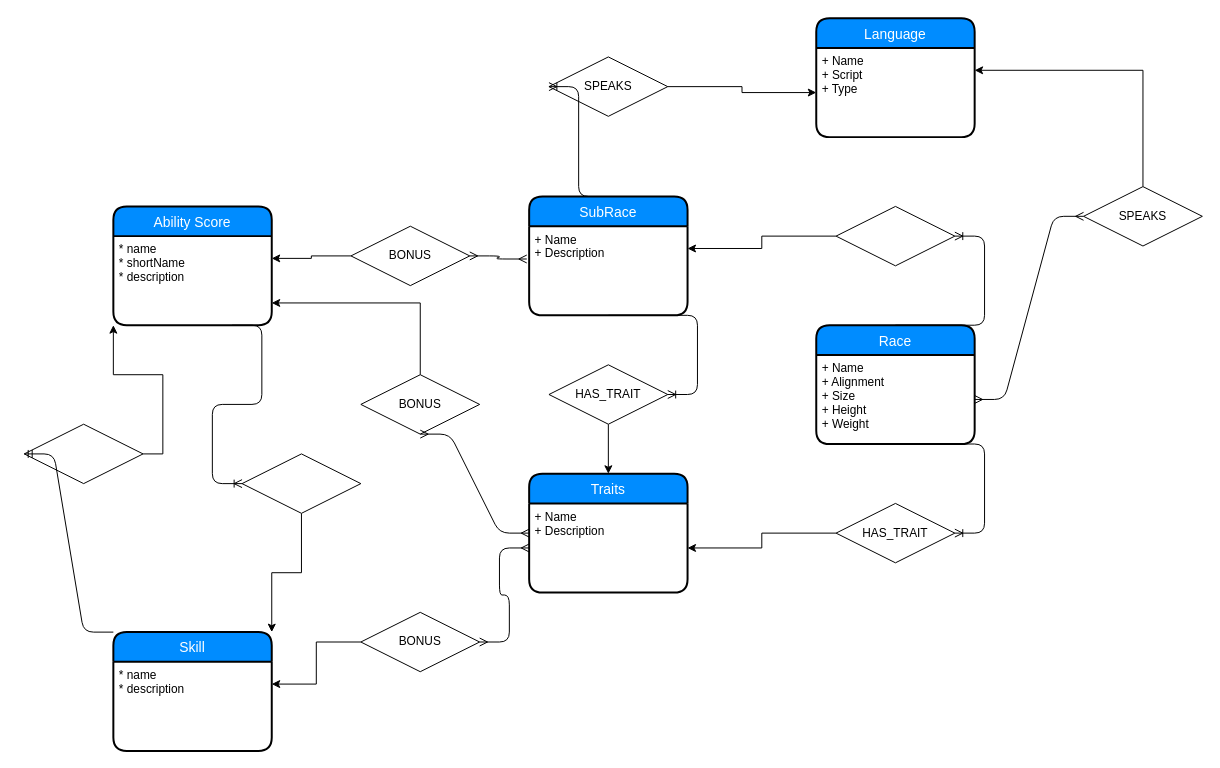
Some shapes in this 1220 by 768 pixel diagram are drawn without their labels. The centre of each missing label's shape, as x and y in pixels:
ABILITY: [83,453]
HAS_SKILL: [301,483]
SUB_RACE: [895,235]
